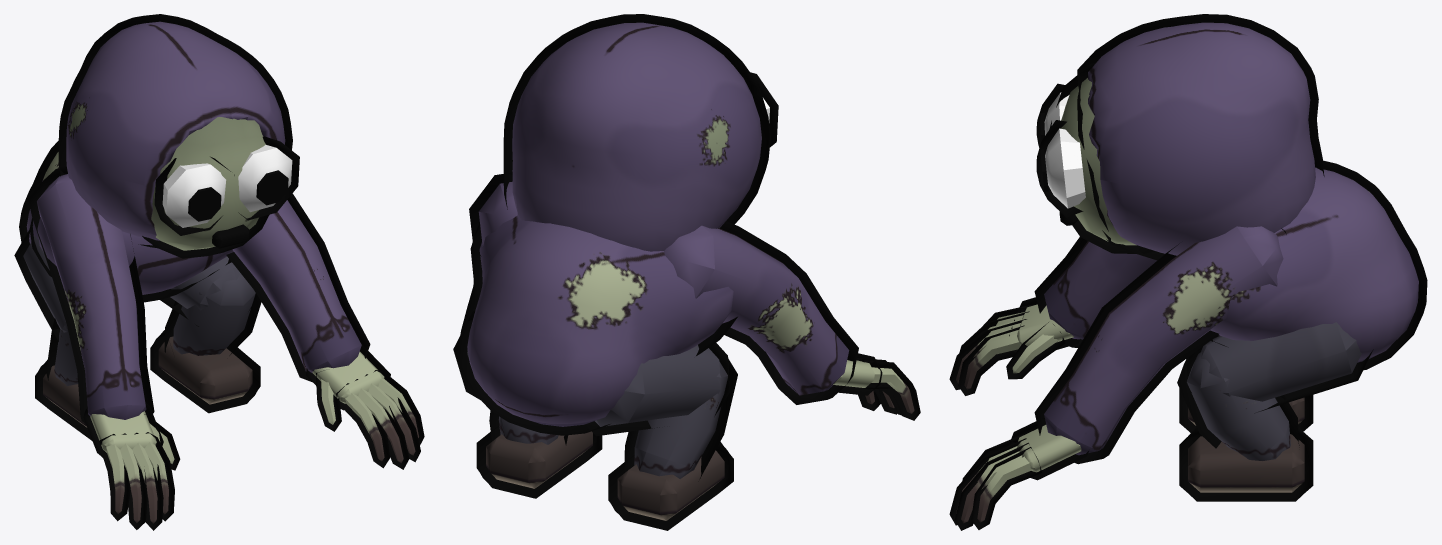
The model's file is hunter.glb.
3 renders of one model, left to right at view 1: azimuth 30°, elevation 25°; view 2: azimuth 150°, elevation 25°; view 3: azimuth 270°, elevation 25°, orthographic. The views are drawn at different scales.
Visible parts, largest first — view 1: hunter_head, hunter_arm_r, hunter_arm_l, hunter_leg_l, hunter_torso, hunter_leg_r; view 2: hunter_head, hunter_torso, hunter_arm_r, hunter_leg_r, hunter_leg_l, hunter_arm_l; view 3: hunter_head, hunter_torso, hunter_arm_l, hunter_leg_l, hunter_arm_r, hunter_leg_r.
Boxes of the visible parts, x1,y1,x2,y2 form: hunter_head: [58, 14, 299, 258]; hunter_arm_r: [28, 166, 180, 530]; hunter_arm_l: [226, 193, 424, 469]; hunter_leg_l: [150, 274, 261, 413]; hunter_torso: [14, 141, 256, 341]; hunter_leg_r: [35, 318, 92, 440]; hunter_head: [503, 14, 778, 251]; hunter_torso: [453, 215, 737, 436]; hunter_arm_r: [664, 221, 920, 420]; hunter_leg_r: [608, 344, 737, 530]; hunter_leg_l: [476, 411, 602, 498]; hunter_arm_l: [469, 172, 517, 256]; hunter_head: [1036, 14, 1324, 260]; hunter_torso: [1174, 158, 1427, 413]; hunter_arm_l: [949, 226, 1286, 530]; hunter_leg_l: [1177, 335, 1313, 501]; hunter_arm_r: [949, 237, 1156, 395]; hunter_leg_r: [1179, 388, 1313, 432].
Bounding box in the file's own units: 3.58 × 4.3 × 4.26.
Materials: 1 (1 with a texture image).
